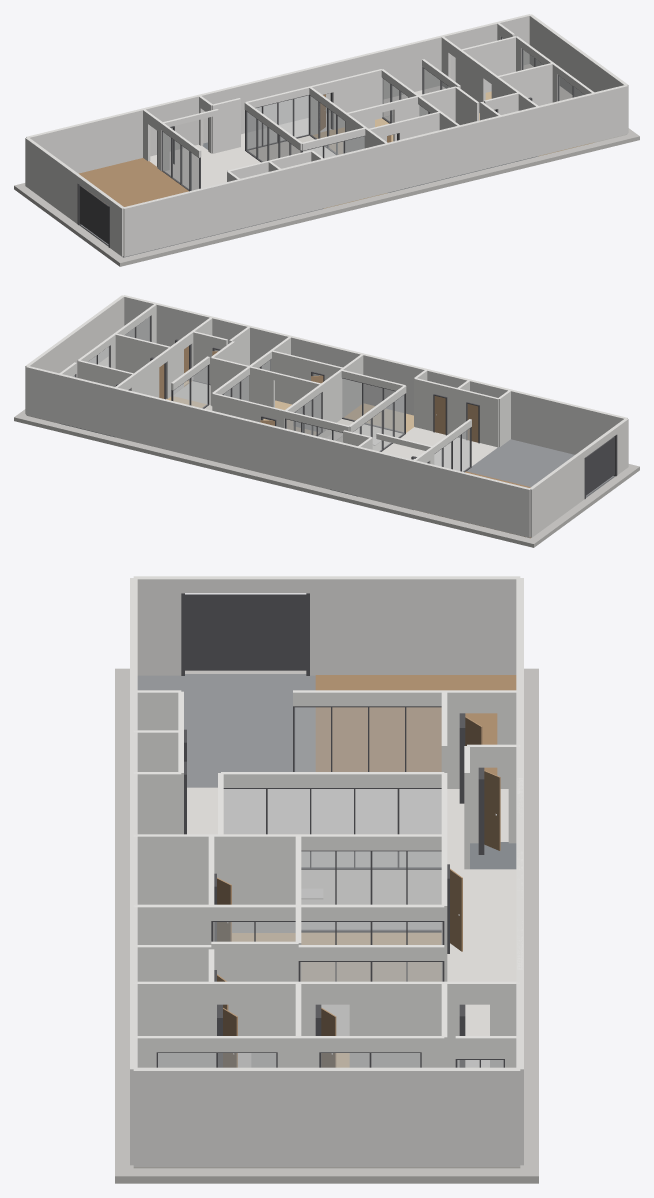
File: house_floorplan_3d.glb
The picture shows the model from 3 angles, top to bottom: view 1: azimuth 30°, elevation 25°; view 2: azimuth 150°, elevation 25°; view 3: azimuth 270°, elevation 25°; orthographic projection. The views are drawn at different scales.
Visible parts, largest first — view 1: Wall_Outer_South, Wall_Outer_North, Floor_Ground_Plinth, Wall_Outer_East, Floor_03_FrontDeck, Wall_Front_R, Floor_06_07_DiningKitchen, Wall_Master_Corridor_R, Wall_ChildBed_Partition, Wall_WC05_South, Wall_Laundry_Bed1_Partition, Wall_BedLaundry_West_M (+24 smaller); view 2: Wall_Outer_North, Wall_Outer_South, Floor_Ground_Plinth, Floor_02_Parking, Wall_Outer_East, Wall_Front_R, Floor_06_07_DiningKitchen, Wall_Master_West_Solid, Wall_ChildBed_Partition, Wall_Master_Bath_Divider_R, Wall_Tub_Courtyard_Divider, Wall_Storage_N3 (+29 smaller); view 3: Wall_Outer_East, Floor_Ground_Plinth, Wall_Front_R, Floor_06_07_DiningKitchen, Floor_02_Parking, Floor_03_FrontDeck, Wall_Master_West_Solid, Floor_09_Corridor_Mid, Wall_BedLaundry_West_M, Floor_10_Courtyard1_Gravel, Wall_Bed2_West_B, Gate_Leaf_2 (+55 smaller).
Boxes of the visible parts, <box> form: Wall_Outer_South: <box>123,85,627,256</box>; Wall_Outer_North: <box>26,14,530,173</box>; Floor_Ground_Plinth: <box>14,128,639,266</box>; Wall_Outer_East: <box>529,14,628,132</box>; Floor_03_FrontDeck: <box>79,158,188,206</box>; Wall_Front_R: <box>25,137,80,223</box>; Floor_06_07_DiningKitchen: <box>165,147,260,190</box>; Wall_Master_Corridor_R: <box>332,69,382,129</box>; Wall_ChildBed_Partition: <box>498,63,553,105</box>; Wall_WC05_South: <box>212,98,240,153</box>; Wall_Laundry_Bed1_Partition: <box>461,36,516,92</box>; Wall_BedLaundry_West_M: <box>455,47,485,112</box>; Wall_Outer_North: <box>26,366,530,537</box>; Wall_Outer_South: <box>123,295,627,454</box>; Floor_Ground_Plinth: <box>14,381,639,547</box>; Floor_02_Parking: <box>466,439,614,497</box>; Wall_Outer_East: <box>25,295,124,413</box>; Wall_Front_R: <box>529,450,584,537</box>; Floor_06_07_DiningKitchen: <box>382,427,497,471</box>; Wall_Master_West_Solid: <box>321,354,363,432</box>; Wall_ChildBed_Partition: <box>115,333,169,373</box>; Wall_Master_Bath_Divider_R: <box>270,350,312,404</box>; Wall_Tub_Courtyard_Divider: <box>211,357,249,405</box>; Wall_Storage_N3: <box>414,378,434,431</box>; Wall_Outer_East: <box>133,1067,520,1166</box>; Floor_Ground_Plinth: <box>115,668,538,1183</box>; Wall_Front_R: <box>308,576,520,675</box>; Floor_06_07_DiningKitchen: <box>187,787,464,869</box>; Floor_02_Parking: <box>137,674,315,787</box>; Floor_03_FrontDeck: <box>315,675,516,775</box>; Wall_Master_West_Solid: <box>133,834,298,932</box>; Floor_09_Corridor_Mid: <box>447,869,516,1067</box>; Wall_BedLaundry_West_M: <box>349,981,459,1067</box>; Floor_10_Courtyard1_Gravel: <box>301,870,441,929</box>; Wall_Bed2_West_B: <box>133,981,216,1067</box>; Gate_Leaf_2: <box>245,594,306,670</box>.
Size of the model in its own units: 31.7 by 3.1 by 11.2.
